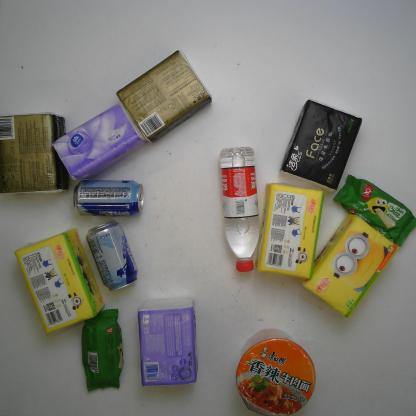Alcohol: (85, 220, 139, 292), (73, 179, 146, 218)
Dessert: (331, 173, 416, 248), (80, 308, 124, 392)
Drink: (219, 145, 262, 273)
Instant Noodles: (235, 335, 316, 416)
Tissue: (300, 211, 400, 322), (13, 227, 106, 337), (115, 48, 213, 145), (277, 98, 364, 193), (51, 101, 148, 181), (252, 178, 326, 280), (0, 111, 70, 195), (137, 296, 199, 388)
